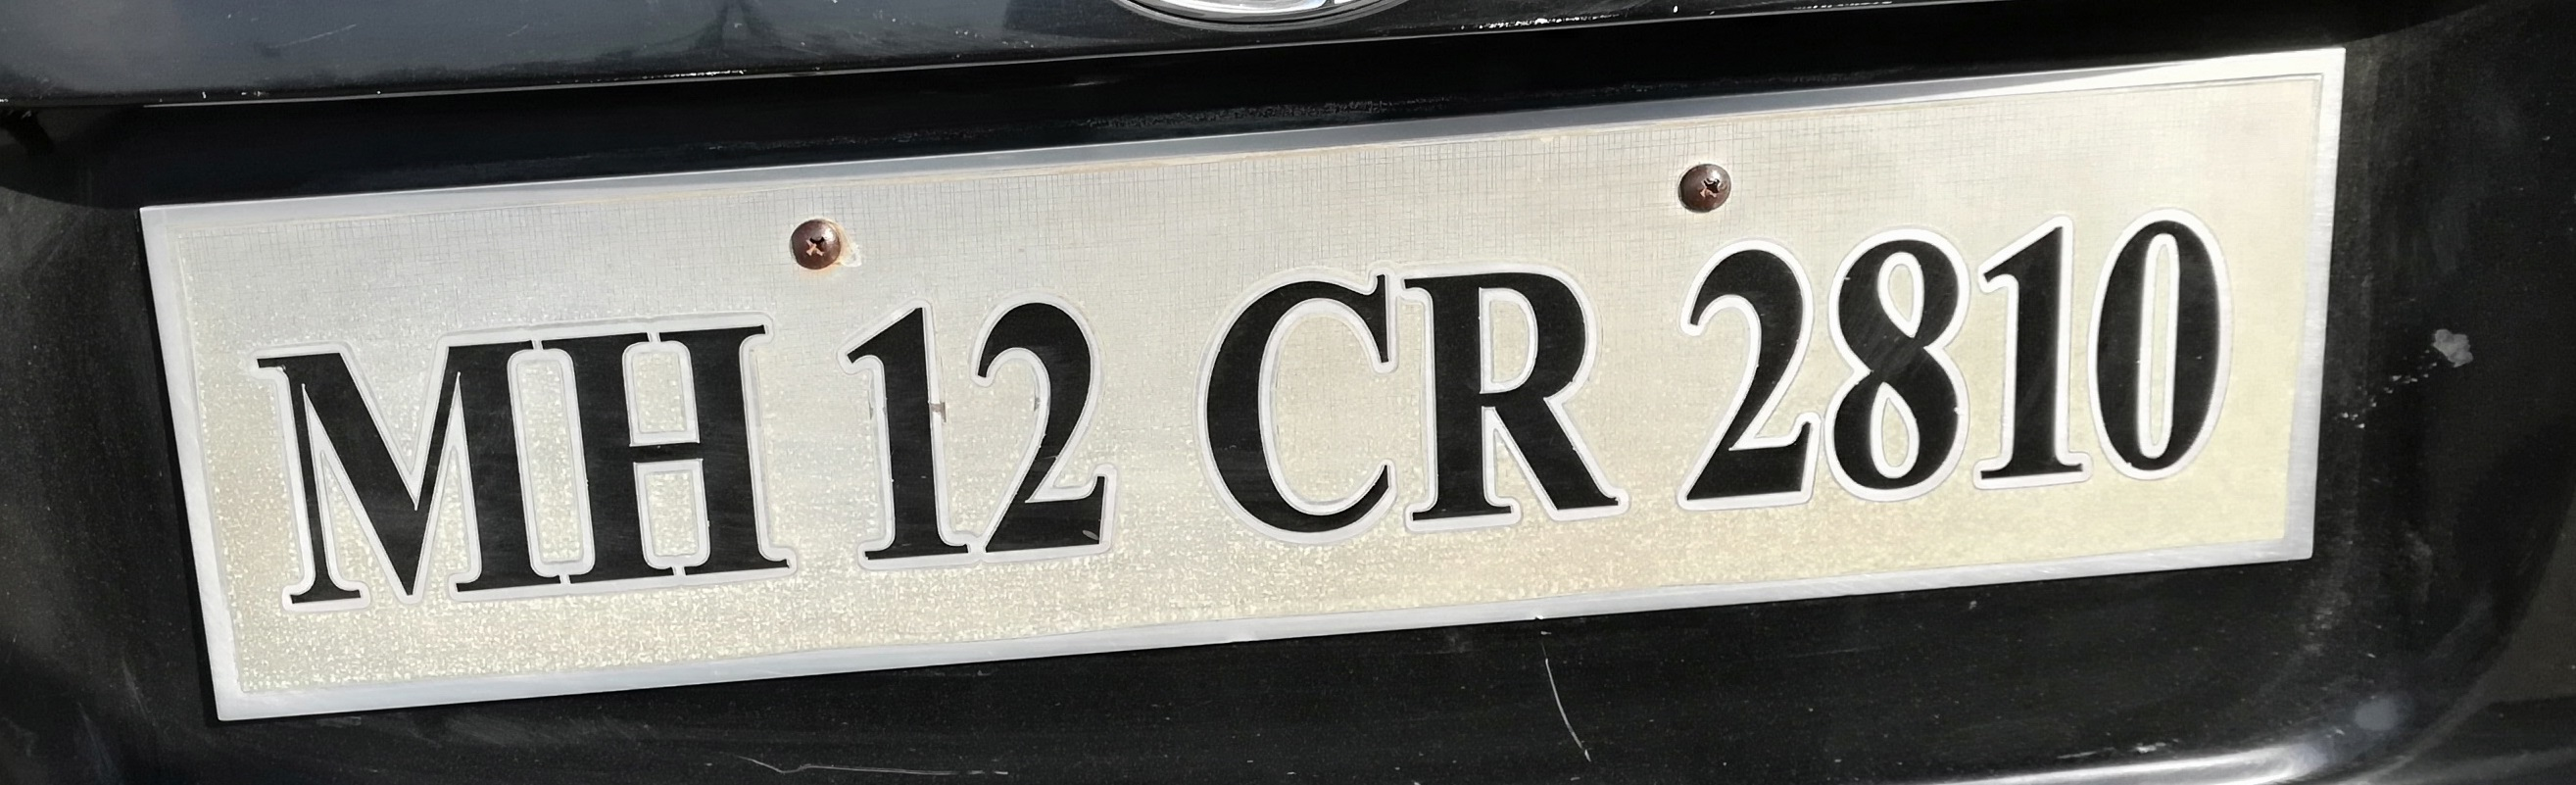numberplate: (133, 43, 2369, 733)
